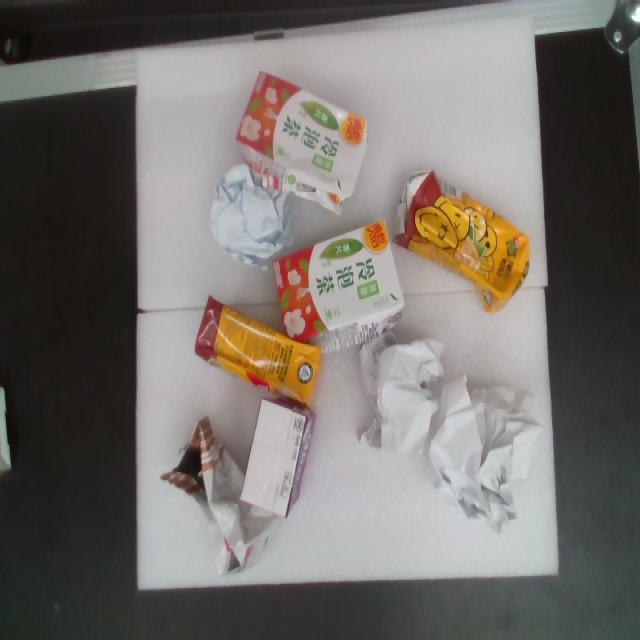juicebox: (130, 404, 306, 585), (361, 166, 552, 323), (213, 63, 389, 226), (250, 206, 420, 363), (174, 285, 357, 426), (235, 384, 331, 529)
paper: (392, 338, 574, 556), (343, 323, 451, 471), (194, 145, 311, 277)
